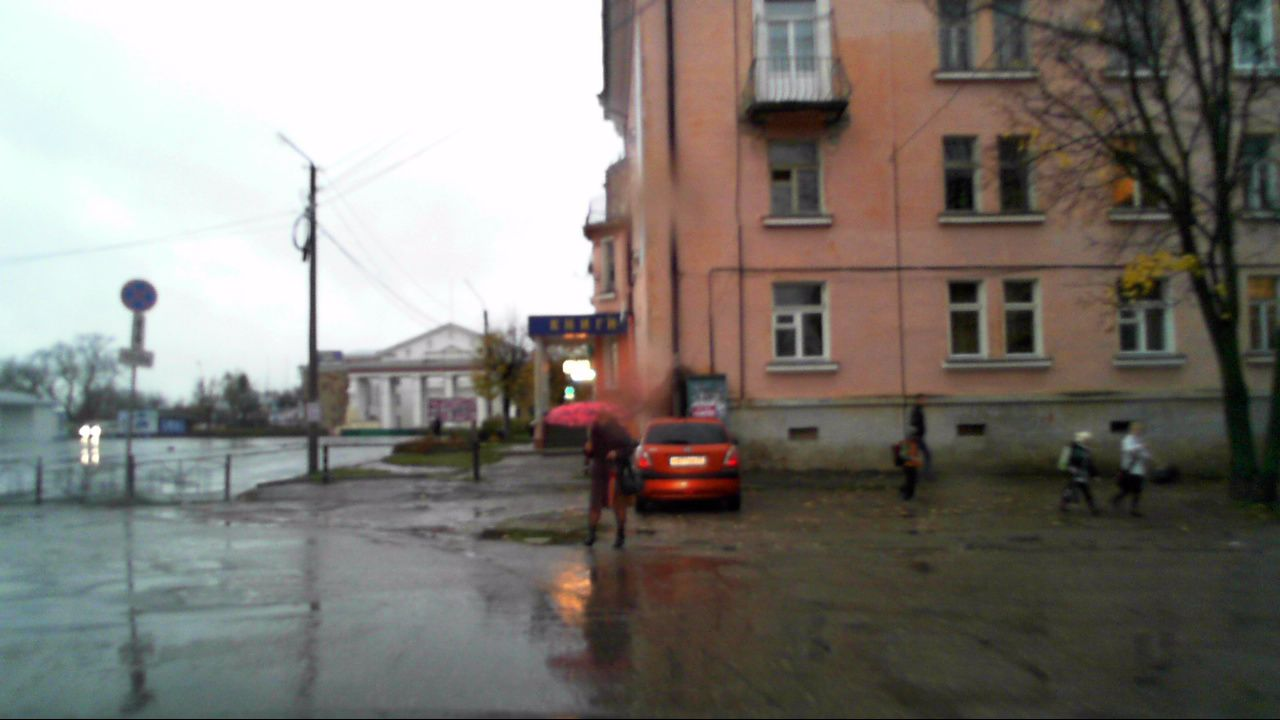No Parking: (121, 279, 157, 312)
